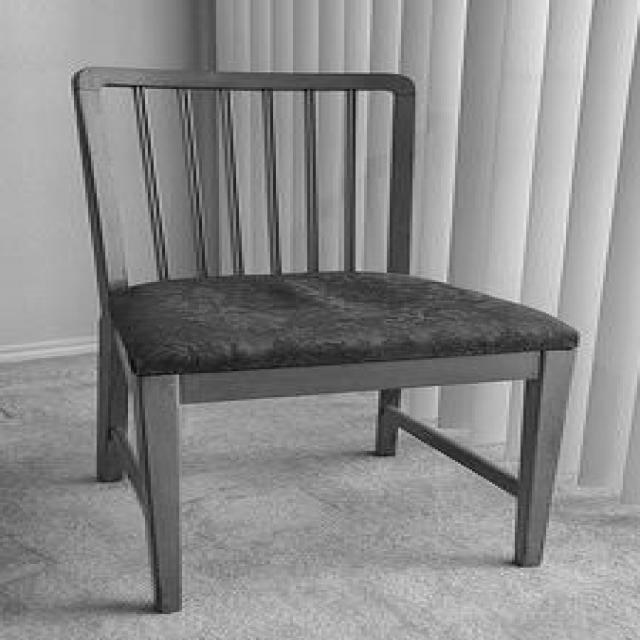chair: (72, 64, 580, 616)
